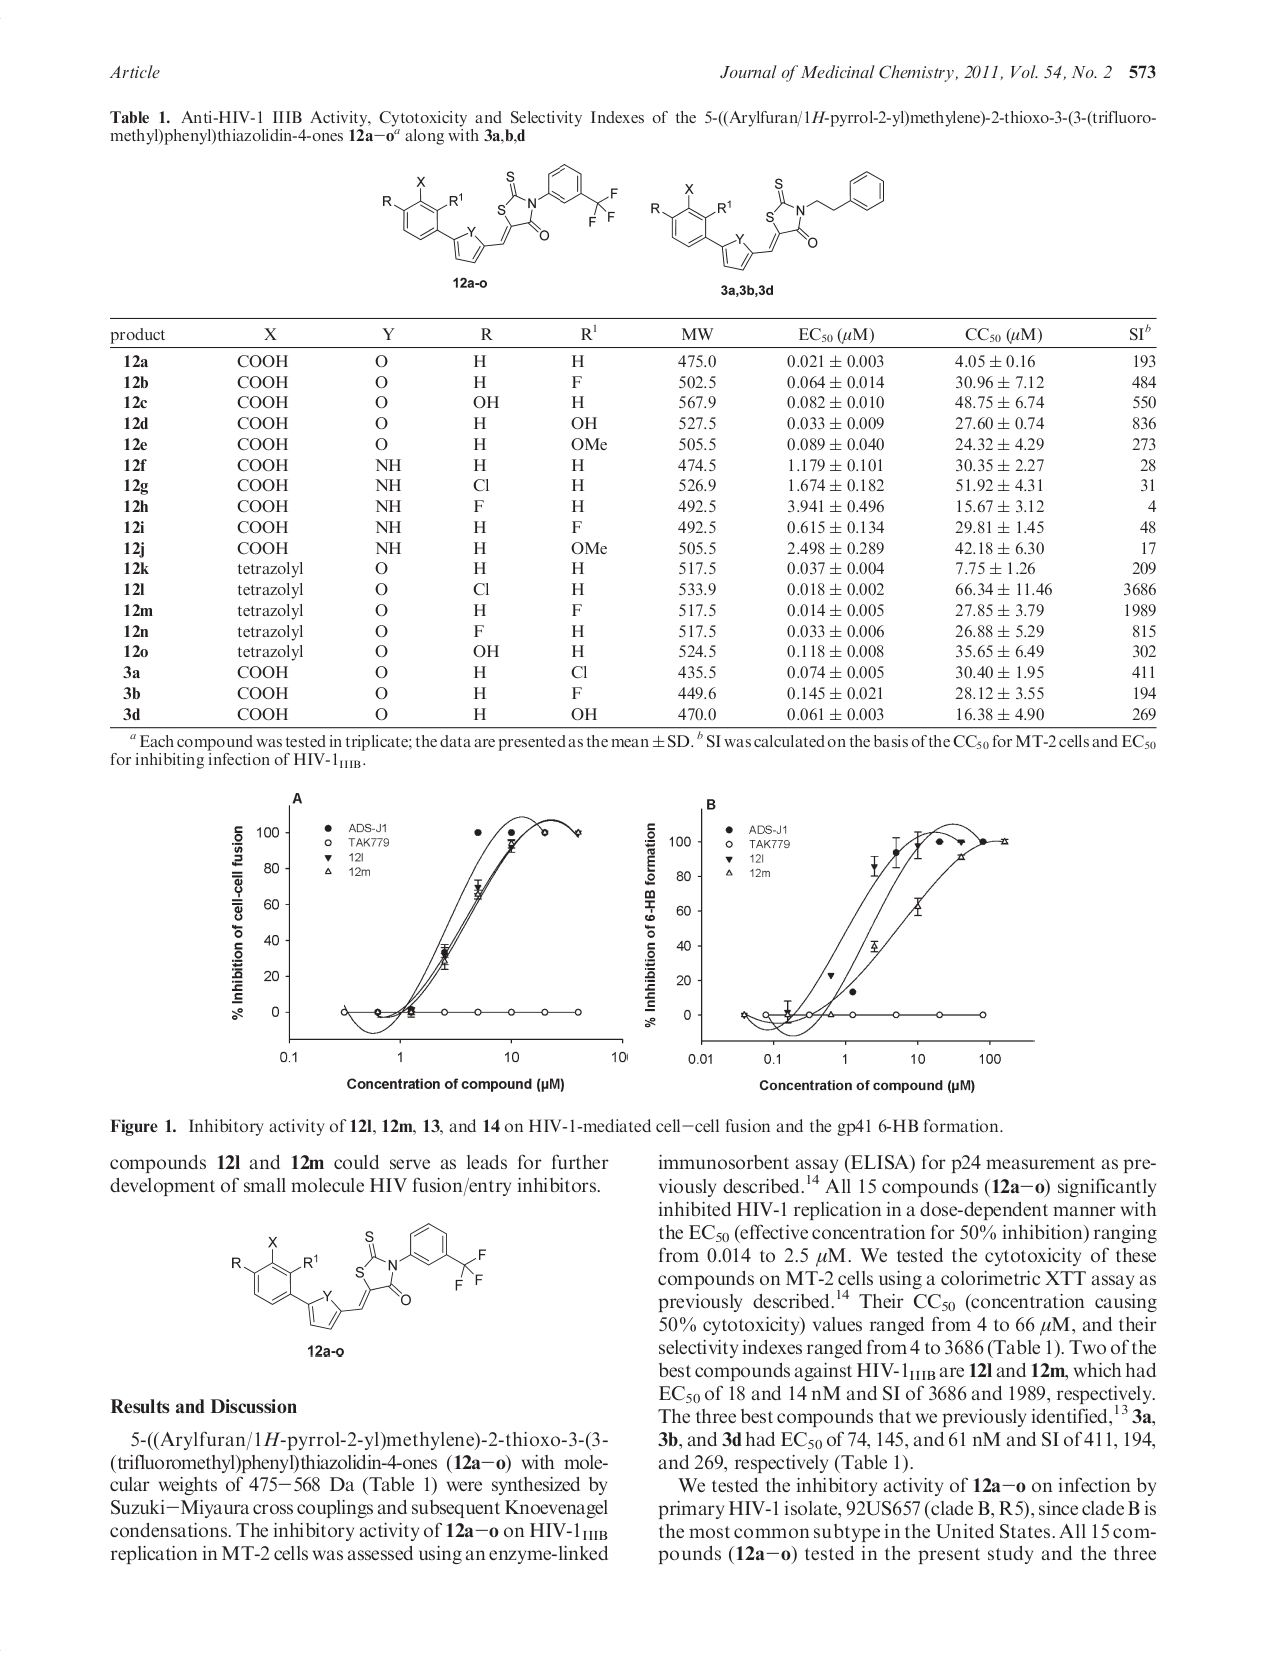exist_molecular: (229, 1220, 489, 1330), (376, 161, 622, 265), (646, 169, 890, 270)
